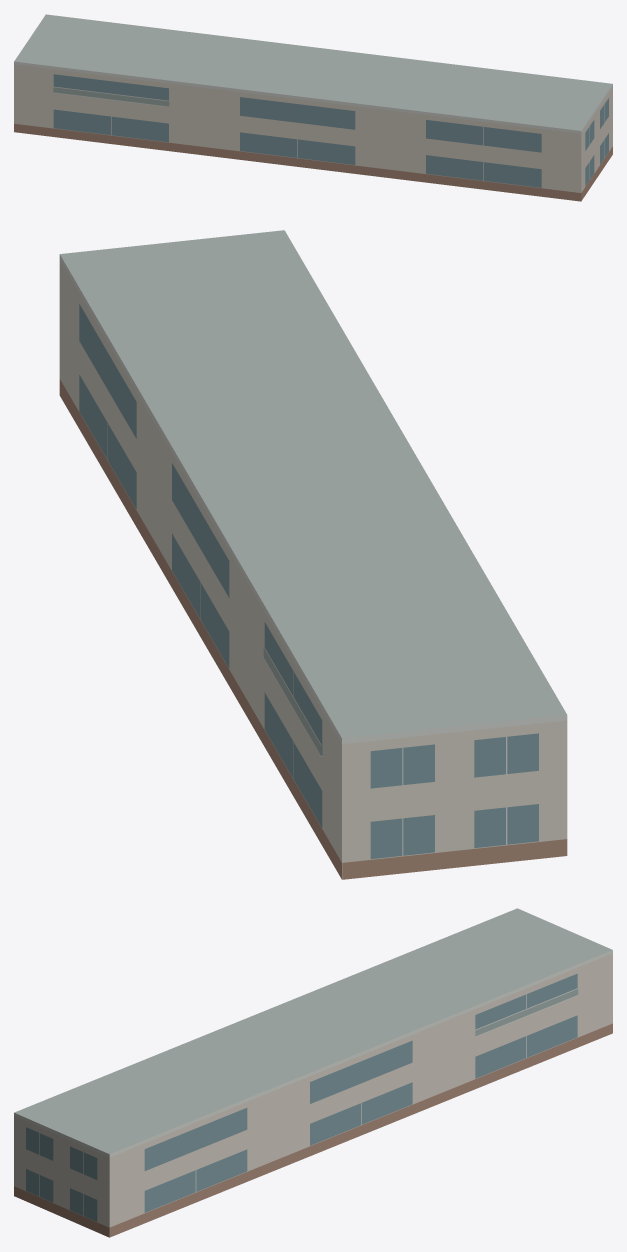
Rendered from survey-upis-32810878.glb.
3 views of the same model, one above another, from view 1: azimuth 30°, elevation 25°; view 2: azimuth 150°, elevation 25°; view 3: azimuth 270°, elevation 25° (orthographic). The views are drawn at different scales.
Visible parts, largest first — view 1: survey-upis-32810878.tmp; view 2: survey-upis-32810878.tmp; view 3: survey-upis-32810878.tmp.
Boxes of the visible parts, left/top/right/bottom form: survey-upis-32810878.tmp: left=14, top=14, right=612, bottom=201; survey-upis-32810878.tmp: left=59, top=230, right=567, bottom=879; survey-upis-32810878.tmp: left=14, top=908, right=612, bottom=1237.
Size of the model in its own units: 38.56 by 6.1 by 39.68.
